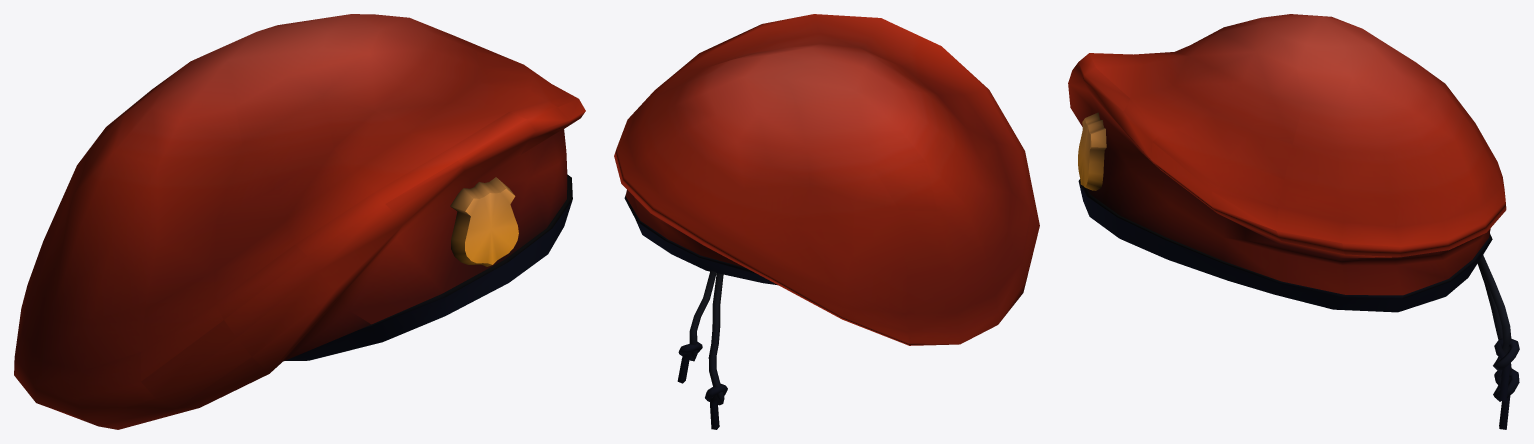
File: Cap_Special_Forces_Beret.gltf
The picture shows the model from 3 angles, left to right: view 1: azimuth 30°, elevation 25°; view 2: azimuth 150°, elevation 25°; view 3: azimuth 270°, elevation 25°; orthographic projection. The views are drawn at different scales.
Visible parts, largest first — view 1: Cap_Special_Forces_Beret; view 2: Cap_Special_Forces_Beret; view 3: Cap_Special_Forces_Beret.
Part boxes in pixels (<box>): Cap_Special_Forces_Beret: <box>14,14,585,429</box>; Cap_Special_Forces_Beret: <box>614,14,1039,429</box>; Cap_Special_Forces_Beret: <box>1068,14,1519,429</box>.
Size of the model in its own units: 1.1 by 0.9047 by 0.9699.
Materials: 3 (3 with a texture image).
